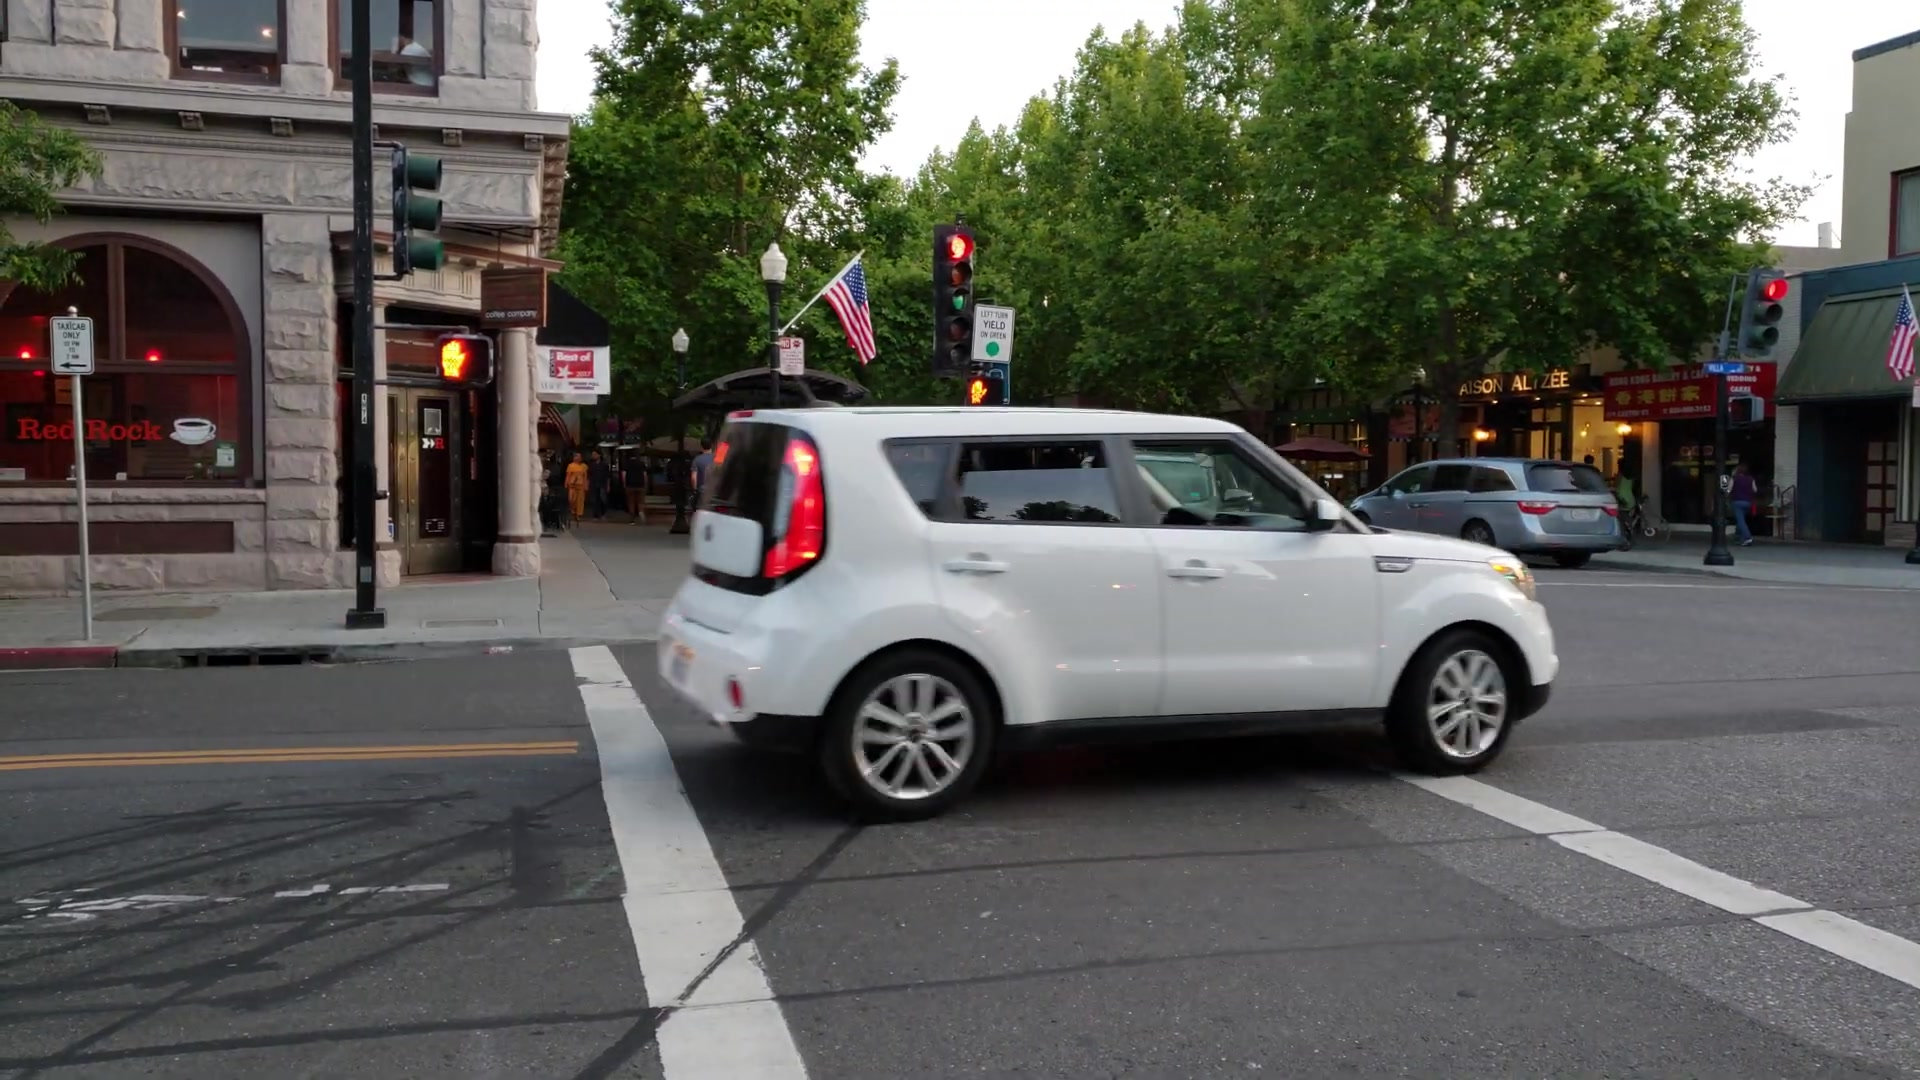vehicle: (654, 404, 1564, 822), (1348, 456, 1618, 570)
